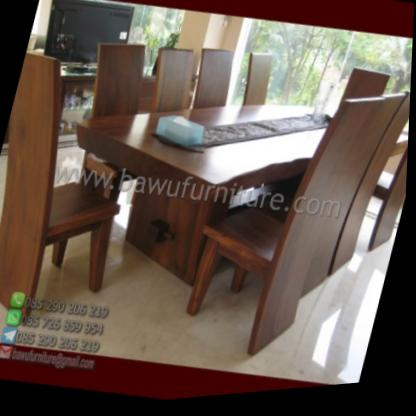Dining Table: (0, 0, 415, 370)
